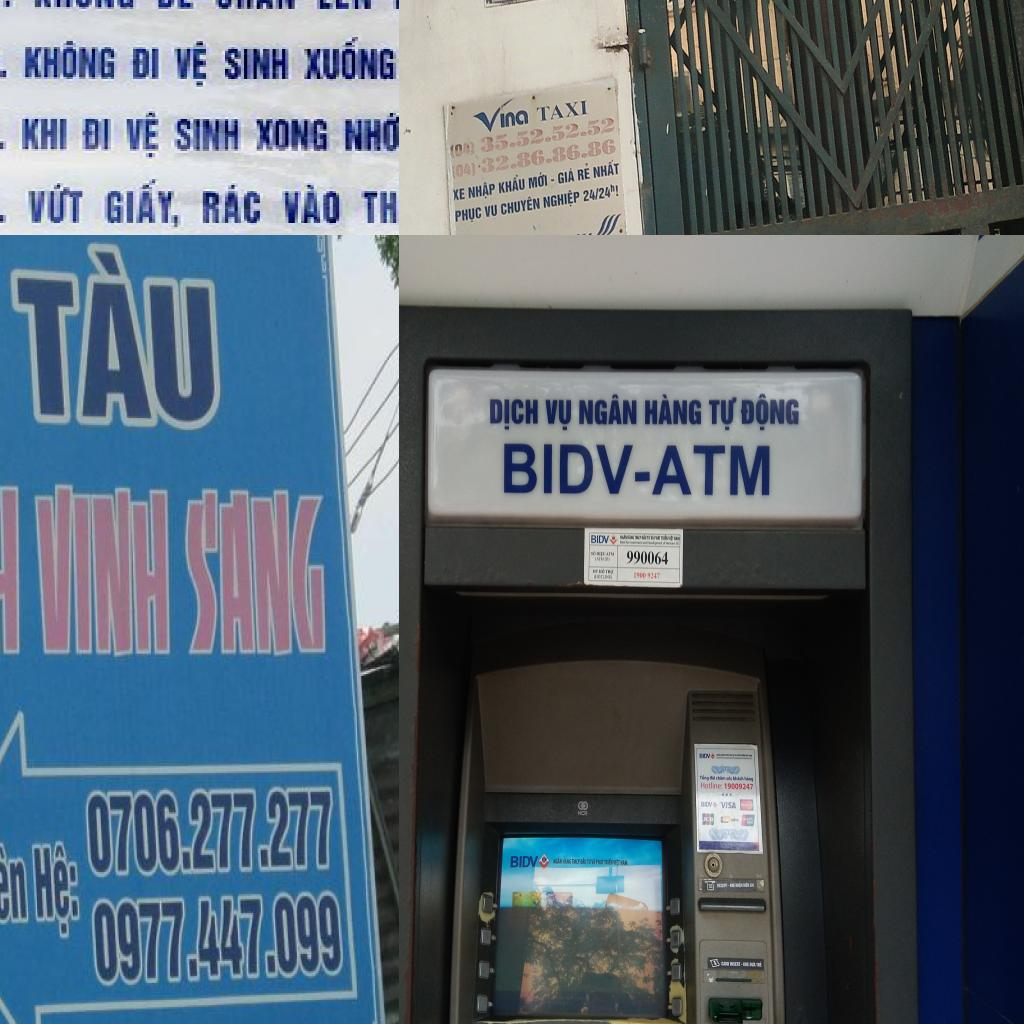text: (5, 238, 229, 446), (29, 483, 174, 662), (84, 784, 339, 882), (184, 488, 330, 659), (447, 111, 618, 162), (448, 135, 622, 183), (502, 442, 652, 496), (652, 445, 770, 496), (30, 838, 86, 945), (301, 35, 399, 83), (22, 39, 121, 85), (101, 177, 184, 231), (250, 117, 333, 155), (22, 183, 92, 227), (279, 181, 345, 227), (171, 115, 244, 155), (200, 183, 266, 227), (222, 45, 295, 83), (0, 841, 30, 929), (342, 111, 399, 155), (468, 96, 532, 135), (740, 392, 800, 431), (171, 39, 216, 89), (120, 111, 165, 161), (16, 117, 73, 153), (579, 392, 637, 425), (644, 393, 702, 426), (489, 397, 539, 432), (358, 185, 399, 227), (536, 94, 592, 124), (127, 45, 168, 83), (79, 117, 114, 153), (25, 0, 139, 11), (212, 0, 301, 13), (500, 193, 542, 219), (708, 396, 737, 432), (542, 187, 580, 213), (582, 180, 620, 206), (544, 399, 572, 431), (310, 0, 377, 13), (497, 170, 526, 196), (626, 550, 669, 566), (592, 156, 620, 180), (466, 178, 496, 200), (152, 0, 202, 13), (453, 204, 483, 225), (528, 167, 549, 191), (0, 187, 12, 227), (0, 43, 12, 81), (0, 115, 12, 153), (556, 164, 576, 186), (510, 855, 538, 869), (576, 160, 592, 184), (484, 200, 498, 220), (450, 184, 466, 201), (724, 782, 754, 790), (634, 572, 660, 580), (700, 781, 723, 790), (591, 534, 609, 544), (719, 801, 737, 810), (593, 574, 613, 580), (700, 801, 712, 808), (604, 857, 613, 865), (699, 754, 711, 760), (702, 816, 714, 822), (729, 961, 741, 967), (744, 776, 754, 783), (717, 883, 728, 889), (647, 541, 663, 545), (613, 858, 620, 867), (596, 552, 606, 558), (553, 858, 563, 864), (562, 858, 572, 864), (699, 775, 709, 781), (716, 775, 726, 781), (720, 960, 730, 966), (596, 858, 604, 865), (733, 776, 744, 781), (595, 556, 604, 562), (605, 569, 614, 575), (571, 858, 580, 864), (666, 541, 676, 546), (627, 534, 635, 540), (620, 860, 628, 866), (735, 882, 743, 888), (742, 882, 750, 888), (756, 960, 762, 968), (550, 176, 556, 183), (620, 534, 627, 540), (654, 535, 661, 541), (661, 534, 668, 540), (668, 535, 674, 542), (598, 568, 605, 574), (586, 858, 592, 865), (709, 775, 716, 781), (749, 962, 756, 968), (634, 535, 642, 540), (635, 540, 643, 545), (606, 552, 614, 557), (674, 536, 680, 542), (580, 858, 586, 864), (730, 818, 739, 822), (729, 882, 735, 888), (726, 776, 733, 781), (642, 534, 647, 540), (591, 550, 596, 556), (604, 557, 610, 562), (743, 962, 749, 967), (592, 858, 596, 865), (620, 540, 626, 544), (750, 882, 754, 888), (647, 535, 651, 540), (630, 540, 634, 545), (642, 541, 647, 545), (675, 542, 680, 546), (593, 569, 598, 573), (651, 535, 654, 541), (626, 540, 630, 544), (662, 541, 666, 545)
